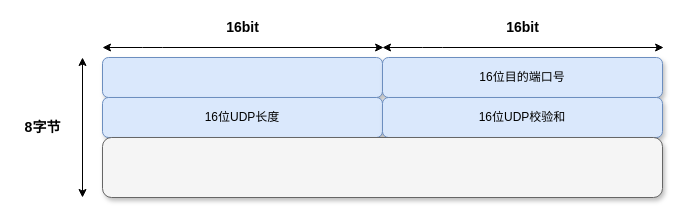
This 690x224 diagram has some shape labels left out. Here are the shapes that lost their labels. From the top down, the centre of each, then its label:
At [243,78]: "16位源端口号".
At [383,168]: "数据(如果有)".
